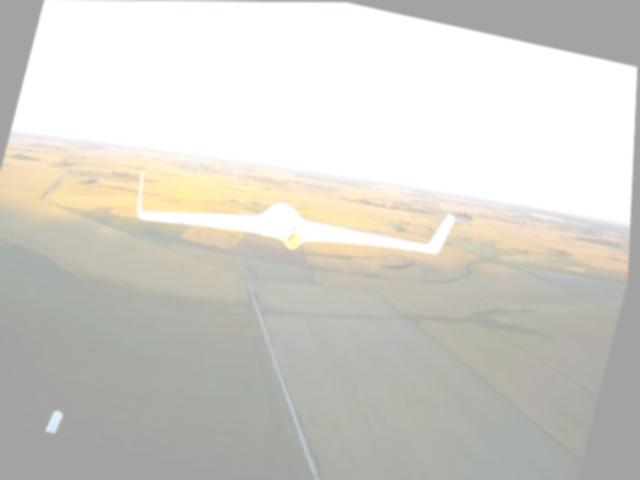plane: (127, 146, 461, 286)
